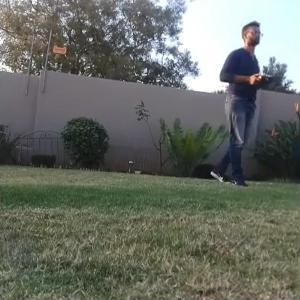follow: (206, 11, 275, 190)
